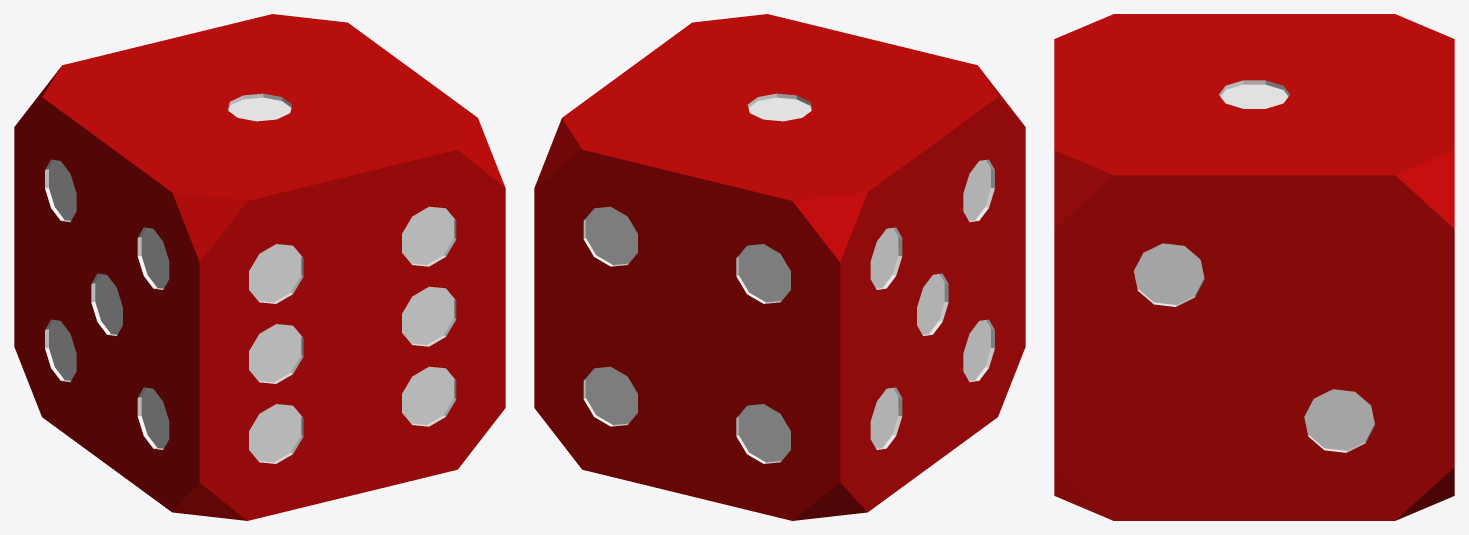
The model's file is Boardgame_D6_Red_01.fbx.
3 views of the same model, side by side, from view 1: azimuth 30°, elevation 25°; view 2: azimuth 150°, elevation 25°; view 3: azimuth 270°, elevation 25° (orthographic). The views are drawn at different scales.
Parts seen in each view (by area): view 1: Model; view 2: Model; view 3: Model.
Part boxes in pixels (bbox=[...]): Model: bbox=[14, 14, 505, 520]; Model: bbox=[534, 14, 1025, 520]; Model: bbox=[1054, 14, 1454, 520].
Size of the model in its own units: 131 by 131 by 138.
